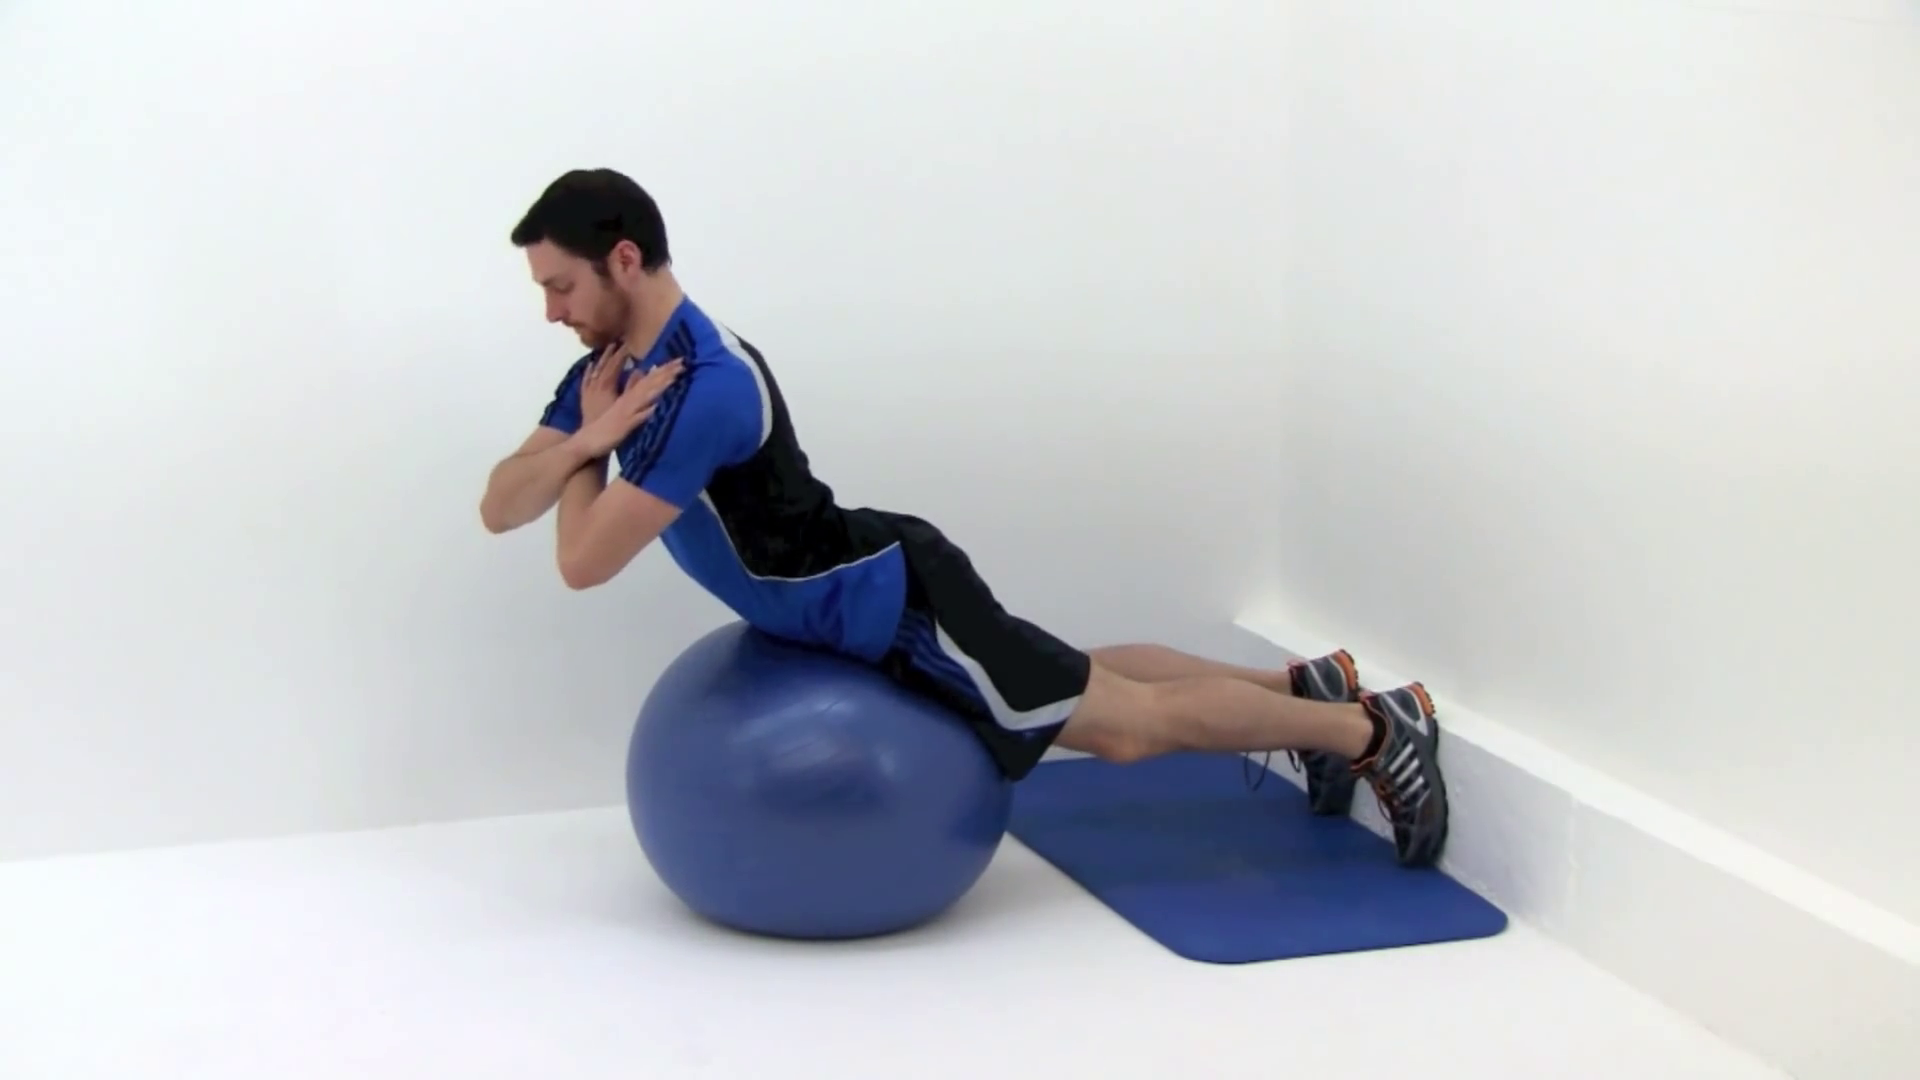yogaball: (616, 608, 1025, 953)
